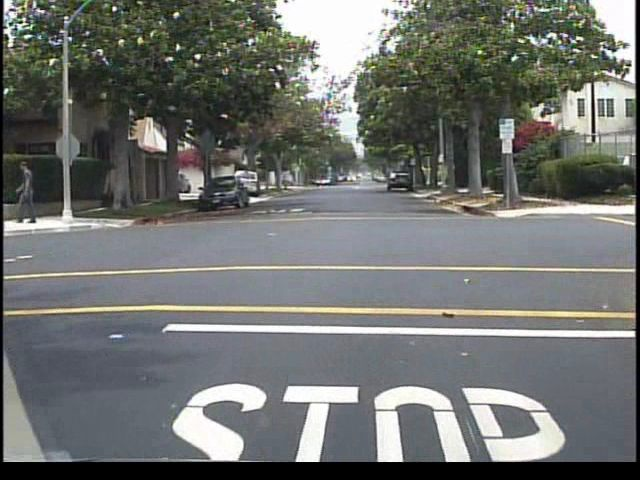person: (12, 155, 46, 228)
